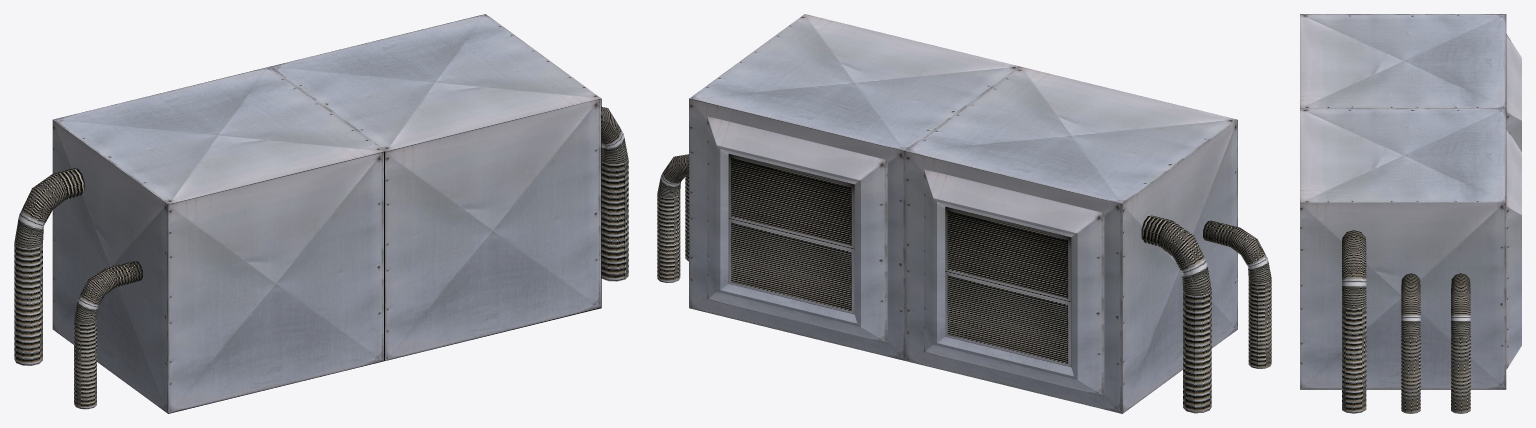
File: Aircon_01.FBX
3 views of the same model, side by side, from view 1: azimuth 30°, elevation 25°; view 2: azimuth 150°, elevation 25°; view 3: azimuth 270°, elevation 25° (orthographic). The views are drawn at different scales.
Parts seen in each view (by area): view 1: Box376; view 2: Box376; view 3: Box376.
Boxes of the visible parts, x1=… form: Box376: x1=14, y1=14, x2=628, y2=413; Box376: x1=657, y1=14, x2=1271, y2=413; Box376: x1=1300, y1=14, x2=1521, y2=413.
Size of the model in its own units: 11.02 by 4 by 4.3.
